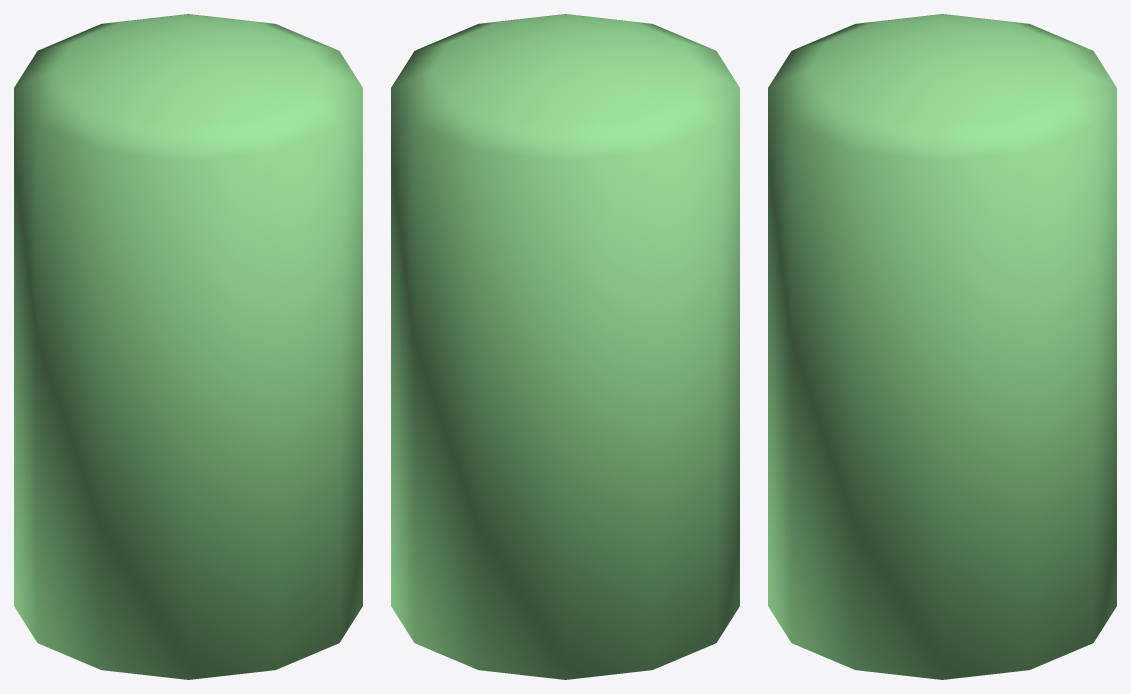
Rendered from oilcan2.obj.
3 renders of one model, left to right at view 1: azimuth 30°, elevation 25°; view 2: azimuth 150°, elevation 25°; view 3: azimuth 270°, elevation 25°, orthographic.
Parts seen in each view (by area): view 1: OilTank001; view 2: OilTank001; view 3: OilTank001.
Part boxes in pixels (box(x1,y1,x2,y2)): OilTank001: box(14, 14, 362, 679); OilTank001: box(391, 14, 739, 679); OilTank001: box(768, 14, 1116, 679).
Bounding box in the file's own units: 42.56 × 80.48 × 42.56.
